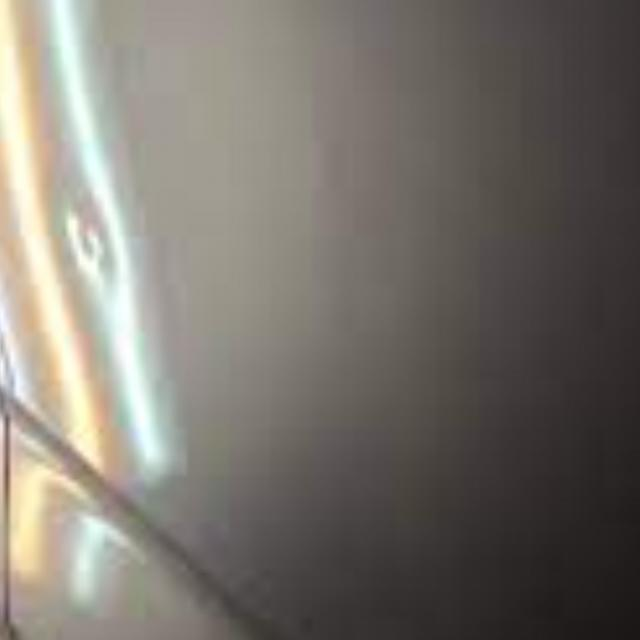dents: (34, 191, 144, 298)
